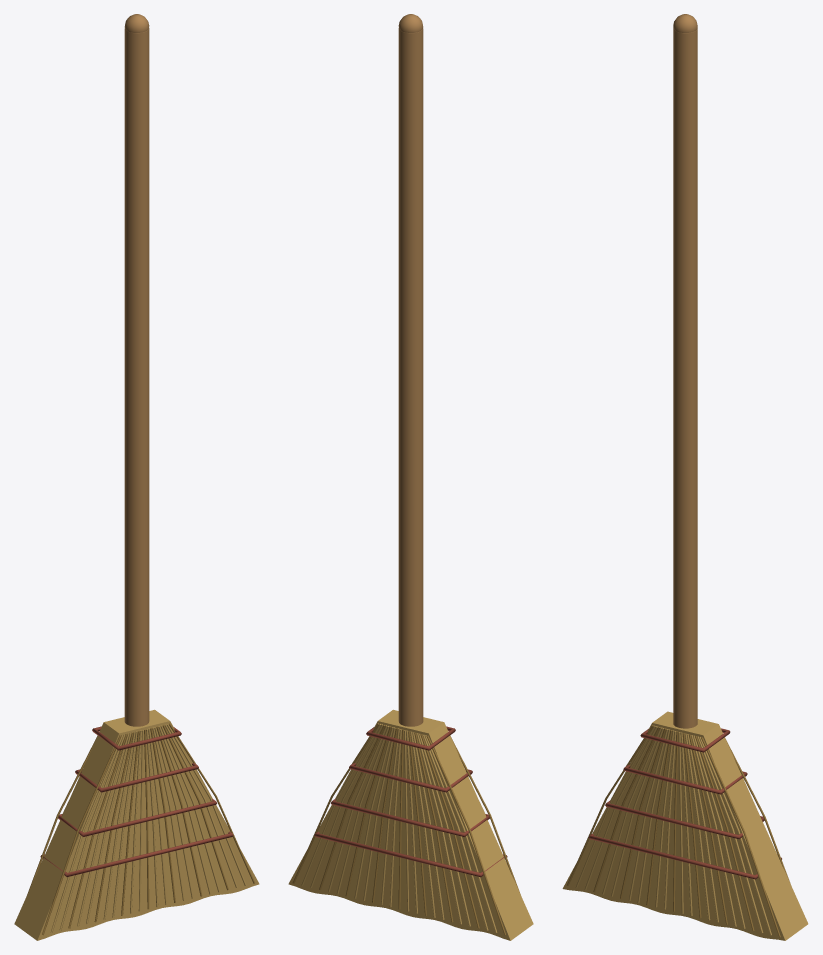
The model's file is P046_broom_rebuilt.glb.
3 renders of one model, left to right at view 1: azimuth 30°, elevation 25°; view 2: azimuth 150°, elevation 25°; view 3: azimuth 330°, elevation 25°, orthographic.
Visible parts, largest first — view 1: Broom_bound_golden_straw, Broom_varnished_wooden_handle, Broom_darker_straw_fibers, Broom_red_binding_cord; view 2: Broom_bound_golden_straw, Broom_varnished_wooden_handle, Broom_darker_straw_fibers, Broom_red_binding_cord; view 3: Broom_bound_golden_straw, Broom_varnished_wooden_handle, Broom_darker_straw_fibers, Broom_red_binding_cord.
Part boxes in pixels (x1,y1,x2,y2): Broom_bound_golden_straw: [14, 709, 259, 940]; Broom_varnished_wooden_handle: [124, 14, 149, 726]; Broom_darker_straw_fibers: [27, 723, 255, 935]; Broom_red_binding_cord: [40, 726, 233, 877]; Broom_bound_golden_straw: [288, 709, 533, 940]; Broom_varnished_wooden_handle: [398, 14, 423, 726]; Broom_darker_straw_fibers: [292, 723, 520, 935]; Broom_red_binding_cord: [314, 726, 507, 877]; Broom_bound_golden_straw: [562, 711, 808, 940]; Broom_varnished_wooden_handle: [673, 14, 697, 728]; Broom_darker_straw_fibers: [567, 725, 790, 937]; Broom_red_binding_cord: [588, 728, 781, 879].
Size of the model in its own units: 0.29 by 1.11 by 0.0595.
